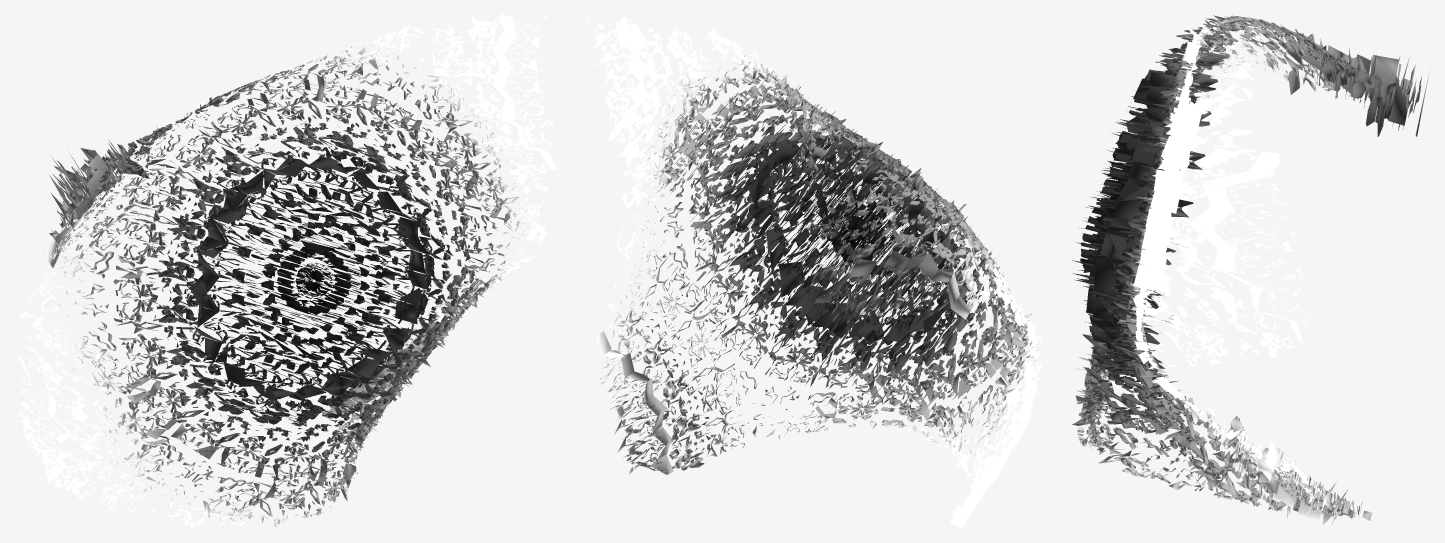
The model's file is angry-napkin-mono2-blckmid-v96.glb.
3 renders of one model, left to right at view 1: azimuth 30°, elevation 25°; view 2: azimuth 150°, elevation 25°; view 3: azimuth 270°, elevation 25°, orthographic. The views are drawn at different scales.
Visible parts, largest first — view 1: MONO2; view 2: MONO2; view 3: MONO2.
Part boxes in pixels (bbox=[...]): MONO2: bbox=[15, 14, 556, 528]; MONO2: bbox=[587, 14, 1042, 528]; MONO2: bbox=[1072, 15, 1429, 525].
Bounding box in the file's own units: 3.88 × 3.18 × 2.14.
1 material, 1 textured.
